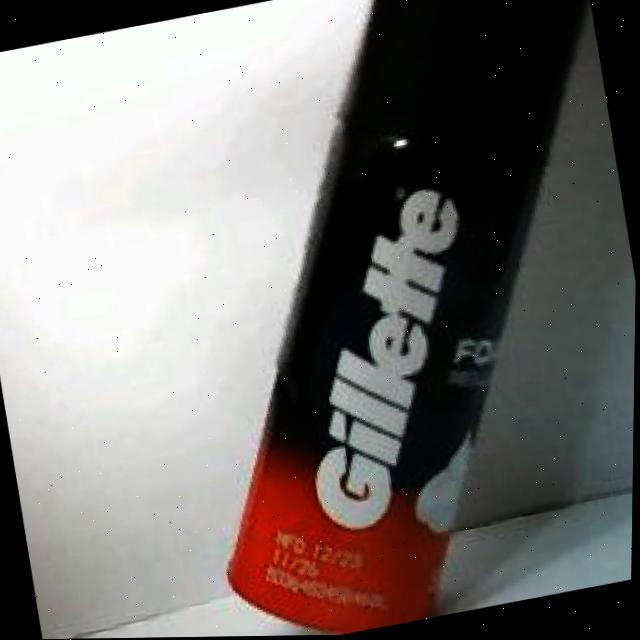gillette-foam: (230, 0, 585, 634)
